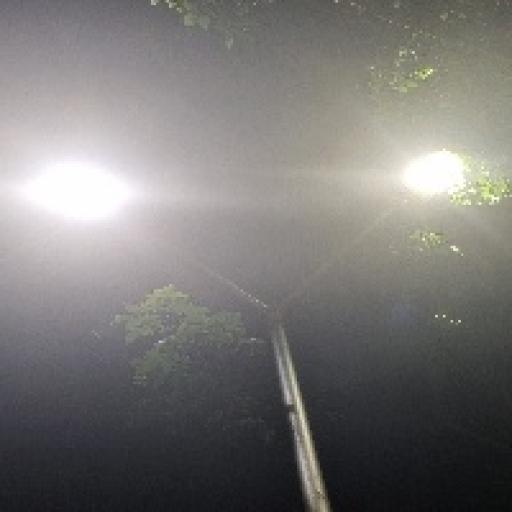Working: (11, 149, 144, 244), (388, 142, 479, 204)
